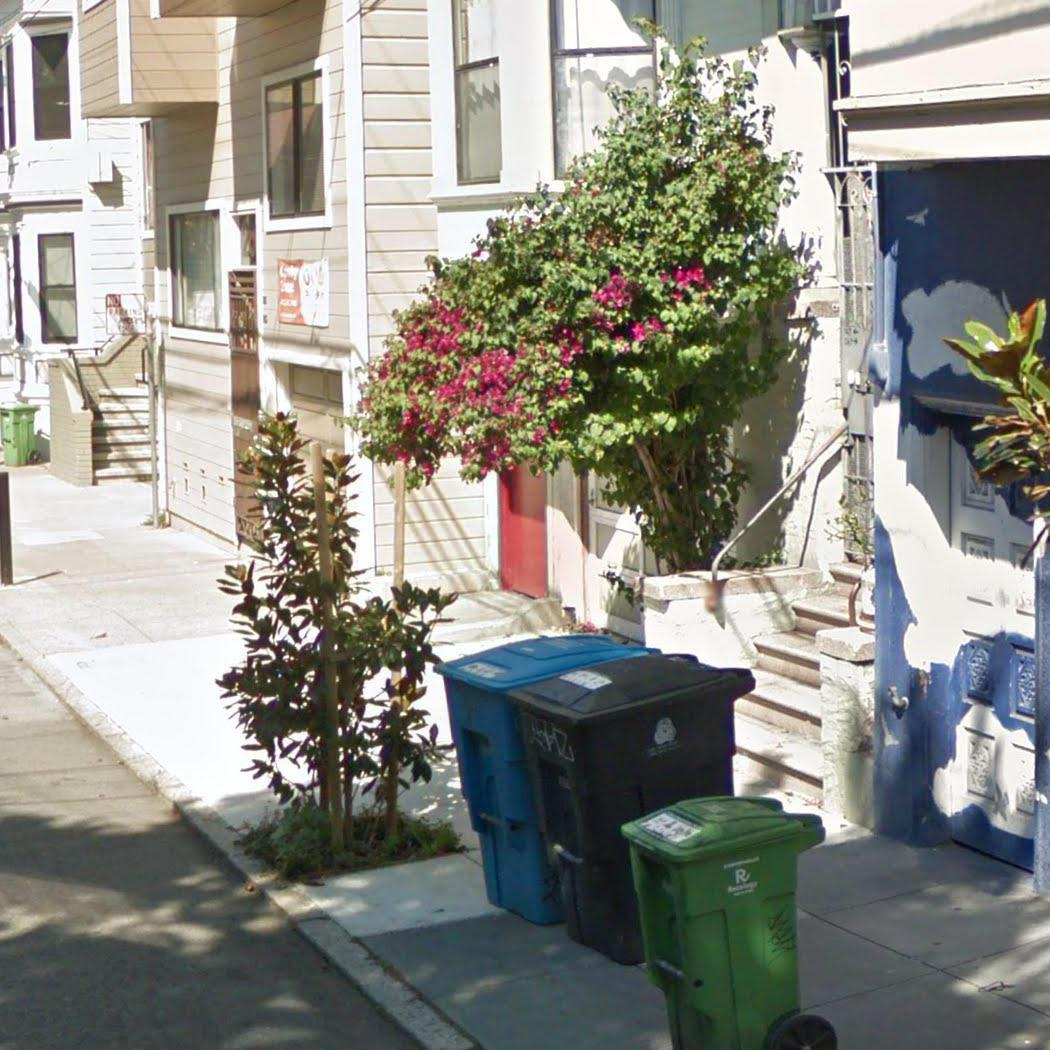No Parking Anytime: (103, 288, 151, 337)
